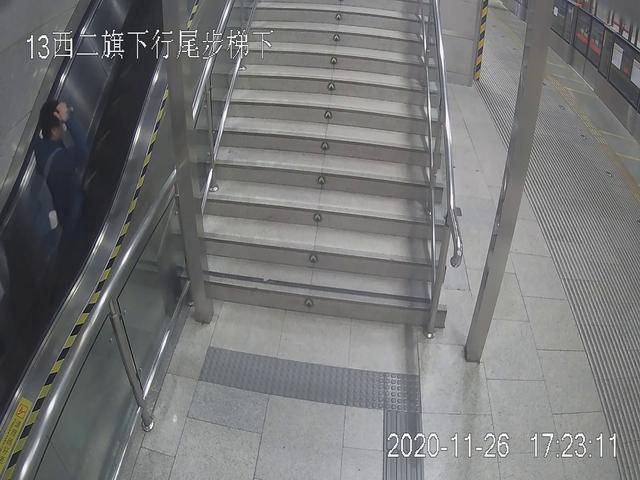person: (34, 98, 96, 280)
